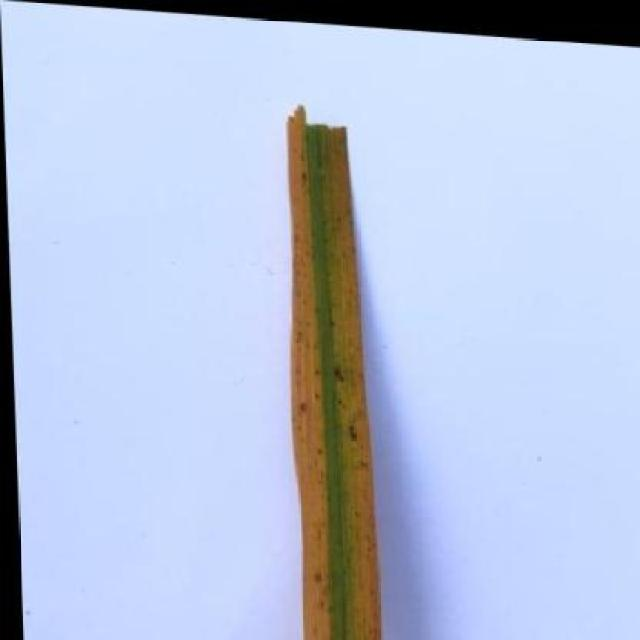Rice False Smut: (286, 102, 376, 640)
